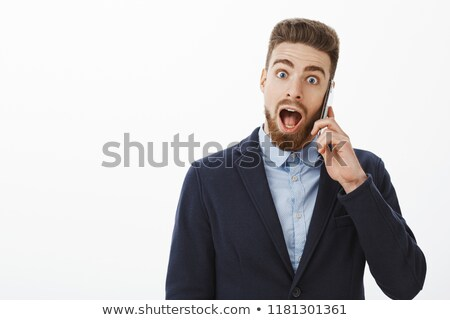phone: (314, 79, 339, 145)
talk: (267, 58, 357, 178)
